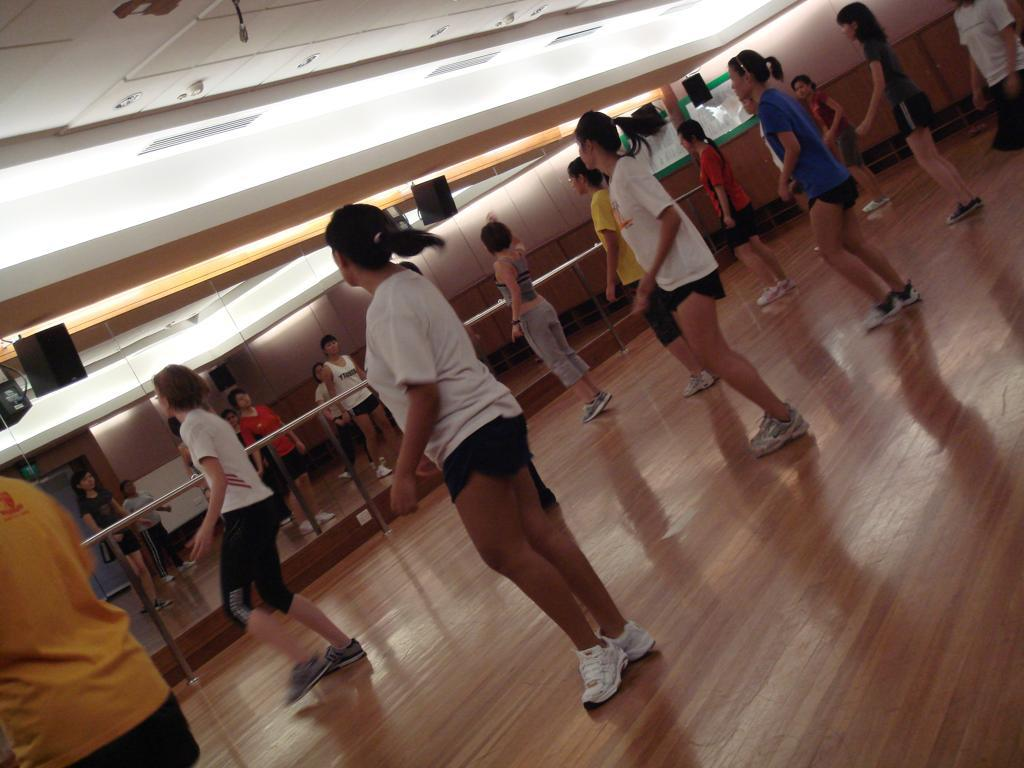face: (154, 385, 175, 418), (576, 138, 592, 171), (729, 68, 745, 100), (837, 21, 855, 42), (794, 82, 811, 100), (569, 173, 582, 195), (80, 473, 95, 490), (740, 97, 754, 115), (235, 394, 251, 408), (680, 133, 692, 151), (323, 341, 338, 355), (315, 366, 327, 381), (225, 414, 238, 427), (124, 483, 136, 494)
